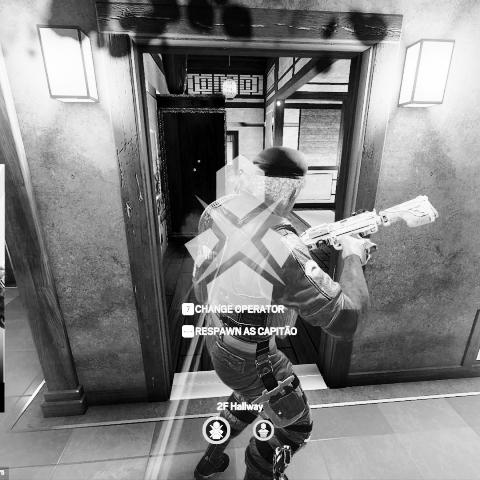Character: (193, 139, 376, 480), (232, 166, 252, 194)
Head: (249, 144, 309, 207), (238, 167, 245, 178)
